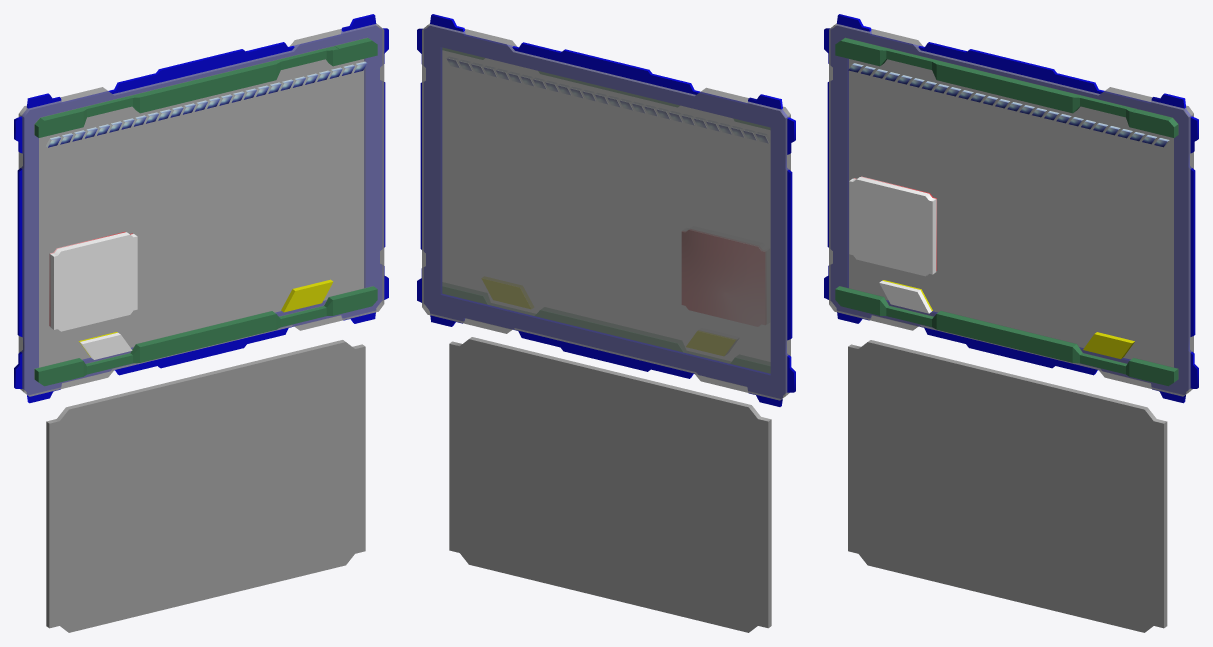
File: panelGroup.fbx
3 views of the same model, side by side, from view 1: azimuth 30°, elevation 25°; view 2: azimuth 150°, elevation 25°; view 3: azimuth 330°, elevation 25° (orthographic).
Parts seen in each view (by area): view 1: backPanelOcto, backDrop, backPanelOcto1, frameWOButton, framedForButton, buttonOutlines, stepButton27, nextButton, parallelogramOutlines, helpButton; view 2: backPanelOcto, backDrop, backPanelOcto1, button, stepButton27, frameWOButton, framedForButton, nextButton, backButton; view 3: backPanelOcto, backDrop, backPanelOcto1, framedForButton, buttonOutlines, frameWOButton, stepButton27, parallelogramOutlines, nextButton, helpButton.
Part boxes in pixels (box(x1,y1,x2,y2)): backPanelOcto: box(18, 23, 384, 396); backDrop: box(46, 340, 365, 632); backPanelOcto1: box(14, 14, 388, 403); frameWOButton: box(35, 41, 377, 373); framedForButton: box(34, 46, 377, 386); buttonOutlines: box(50, 232, 137, 331); stepButton27: box(46, 61, 366, 147); nextButton: box(281, 279, 333, 312); parallelogramOutlines: box(80, 332, 132, 359); helpButton: box(335, 38, 377, 63); backPanelOcto: box(422, 23, 790, 400); backDrop: box(449, 337, 771, 632); backPanelOcto1: box(417, 14, 795, 406); button: box(682, 230, 765, 326); stepButton27: box(447, 58, 768, 143); frameWOButton: box(447, 56, 768, 350); framedForButton: box(442, 57, 770, 373); nextButton: box(482, 278, 530, 308); backButton: box(686, 331, 735, 355); backPanelOcto: box(829, 23, 1193, 396); backDrop: box(848, 340, 1167, 632); backPanelOcto1: box(824, 14, 1198, 403); framedForButton: box(835, 38, 1178, 386); buttonOutlines: box(849, 177, 936, 276); frameWOButton: box(835, 41, 1177, 384); stepButton27: box(848, 63, 1169, 147); parallelogramOutlines: box(879, 280, 931, 313); nextButton: box(1083, 332, 1134, 358); helpButton: box(1135, 109, 1178, 137).
Size of the model in its own units: 3.96 by 5.46 by 0.1856.
